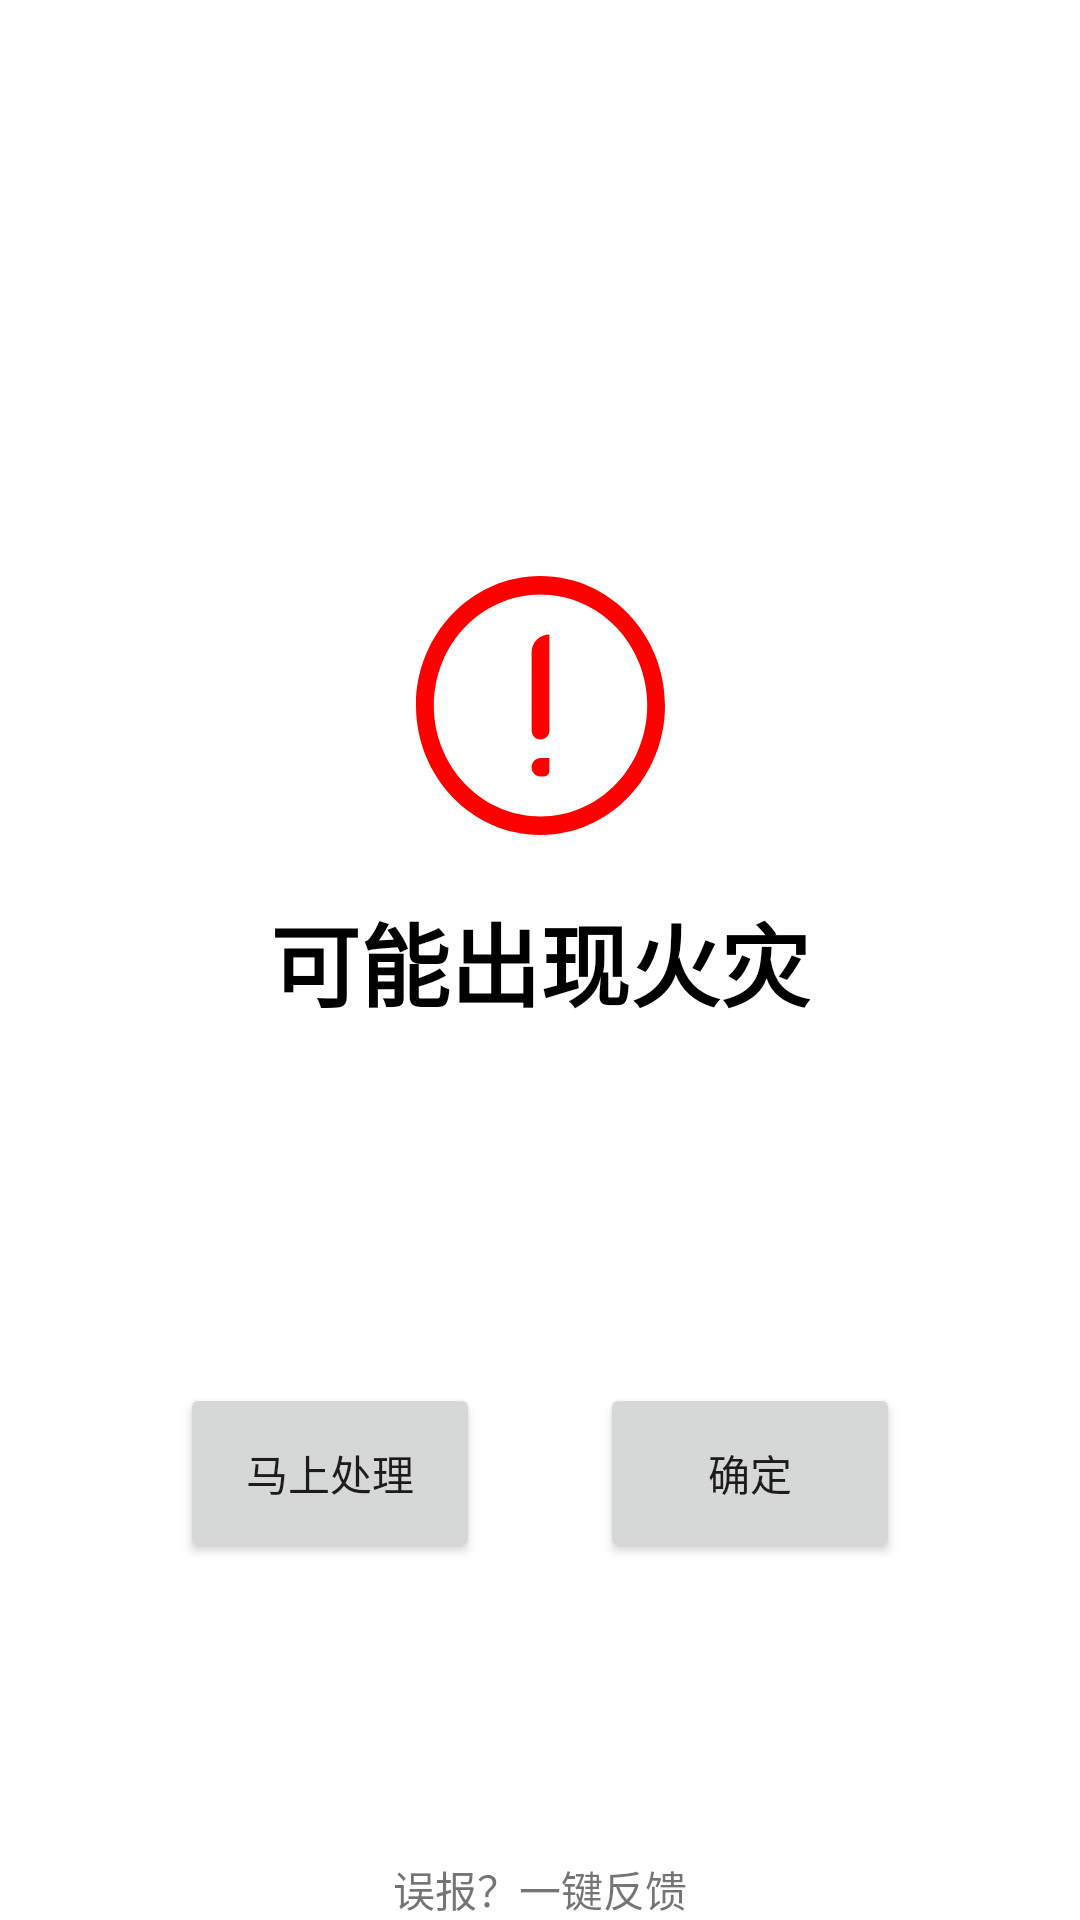

Where to tap for icons on this 1080*1920 app screen, as [x,y]:
path exclamation mark: [540,705]
